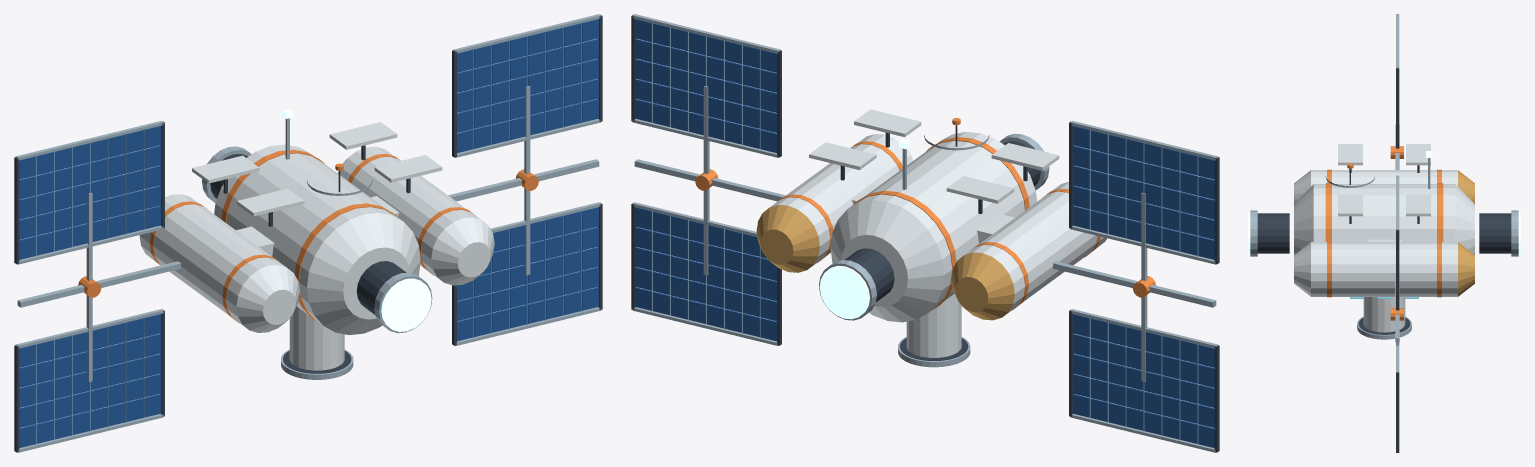
The model's file is relay-station.gltf.
3 views of the same model, side by side, from view 1: azimuth 30°, elevation 25°; view 2: azimuth 150°, elevation 25°; view 3: azimuth 270°, elevation 25° (orthographic). The views are drawn at different scales.
Visible parts, largest first — view 1: Habitat pressure vessel (×2), Central laboratory, Laboratory end cap, Habitat forward cap (×2), Solar wing end rail (×8), White thermal radiator (×4), Service port tunnel, Array structural spar (×2), Wing hinge boom (×2), Axial port lights, Copper station band (×2), Solar wing edge rail (×2) (+3 smaller); view 2: Habitat pressure vessel (×2), Central laboratory, Laboratory aft cap, Habitat aft cap (×2), Solar wing end rail (×8), White thermal radiator (×4), Service port tunnel, Array structural spar (×2), Wing hinge boom (×2), Axial port lights, Copper station band (×2), Solar wing edge rail (×2) (+3 smaller); view 3: Habitat pressure vessel (×2), Central laboratory, Axial docking sleeve (×2), White thermal radiator (×4), Service port tunnel, Laboratory aft cap, Laboratory end cap, Habitat forward cap (×2), Habitat aft cap (×2), Solar wing edge rail (×3), Copper station band (×2), Axial docking rim (×2) (+2 smaller).
Boxes of the visible parts, x1,y1,x2,y2 form: Habitat pressure vessel (×2): [139, 146, 480, 328]; Central laboratory: [214, 144, 401, 325]; Laboratory end cap: [307, 213, 420, 334]; Habitat forward cap (×2): [236, 217, 494, 332]; Solar wing end rail (×8): [15, 14, 601, 452]; White thermal radiator (×4): [192, 122, 442, 216]; Service port tunnel: [289, 306, 344, 370]; Array structural spar (×2): [17, 159, 599, 307]; Wing hinge boom (×2): [86, 86, 530, 381]; Axial port lights: [381, 278, 431, 331]; Copper station band (×2): [221, 149, 398, 322]; Solar wing edge rail (×2): [14, 157, 19, 452]; Habitat pressure vessel (×2): [770, 134, 1109, 316]; Central laboratory: [848, 132, 1036, 312]; Laboratory aft cap: [830, 200, 944, 322]; Habitat aft cap (×2): [756, 205, 1014, 320]; Solar wing end rail (×8): [632, 14, 1218, 452]; White thermal radiator (×4): [809, 109, 1059, 203]; Service port tunnel: [906, 293, 961, 357]; Array structural spar (×2): [634, 159, 1216, 307]; Wing hinge boom (×2): [703, 86, 1147, 381]; Axial port lights: [819, 265, 869, 319]; Copper station band (×2): [853, 137, 1029, 309]; Solar wing edge rail (×2): [1214, 157, 1219, 452]; Habitat pressure vessel (×2): [1311, 170, 1457, 296]; Central laboratory: [1313, 184, 1455, 241]; Axial docking sleeve (×2): [1257, 213, 1511, 253]; White thermal radiator (×4): [1338, 144, 1430, 216]; Service port tunnel: [1363, 297, 1405, 332]; Laboratory aft cap: [1455, 184, 1474, 254]; Laboratory end cap: [1294, 184, 1313, 254]; Habitat forward cap (×2): [1294, 170, 1310, 296]; Habitat aft cap (×2): [1458, 170, 1474, 296]; Solar wing edge rail (×3): [1396, 68, 1399, 452]; Copper station band (×2): [1325, 183, 1443, 241]; Axial docking rim (×2): [1250, 210, 1518, 256].
Bounding box in the file's own units: 19.55 × 9.41 × 10.39.
